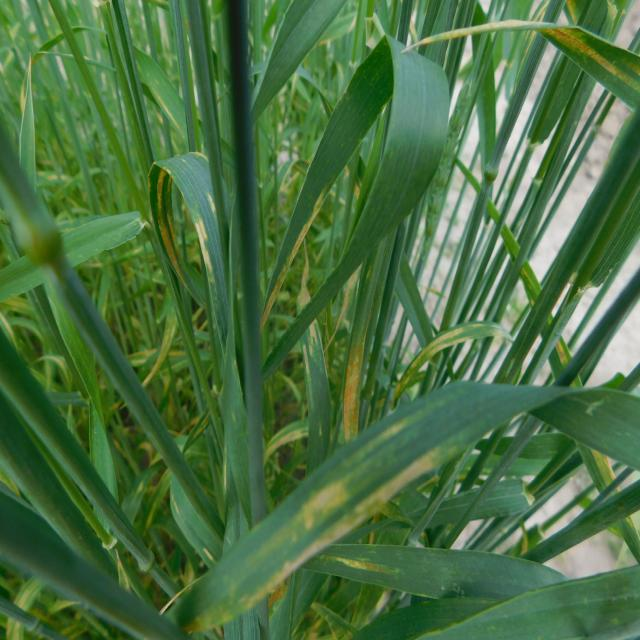wheat-yellowrust: (164, 384, 500, 635), (409, 20, 640, 108), (150, 151, 231, 316), (310, 548, 434, 584), (300, 316, 330, 462), (336, 323, 368, 447)
